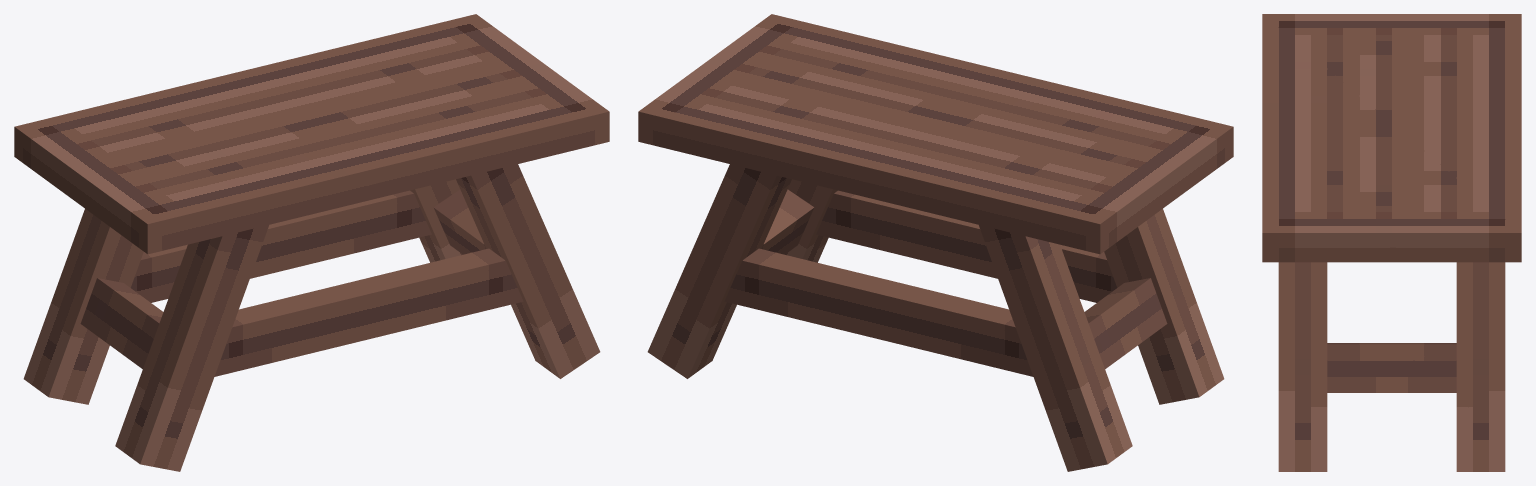
File: angled-table.gltf
3 renders of one model, left to right at view 1: azimuth 30°, elevation 25°; view 2: azimuth 150°, elevation 25°; view 3: azimuth 270°, elevation 25°, orthographic. The views are drawn at different scales.
Visible parts, largest first — view 1: cube (×9); view 2: cube (×9); view 3: cube (×4).
Boxes of the visible parts, box(x1,y1,x2,y2) form: cube (×9): box(14, 14, 609, 471); cube (×9): box(638, 14, 1233, 471); cube (×4): box(1262, 14, 1521, 471).
Bounding box in the file's own units: 2 × 1.09 × 1.
Materials: 1 (1 with a texture image).
